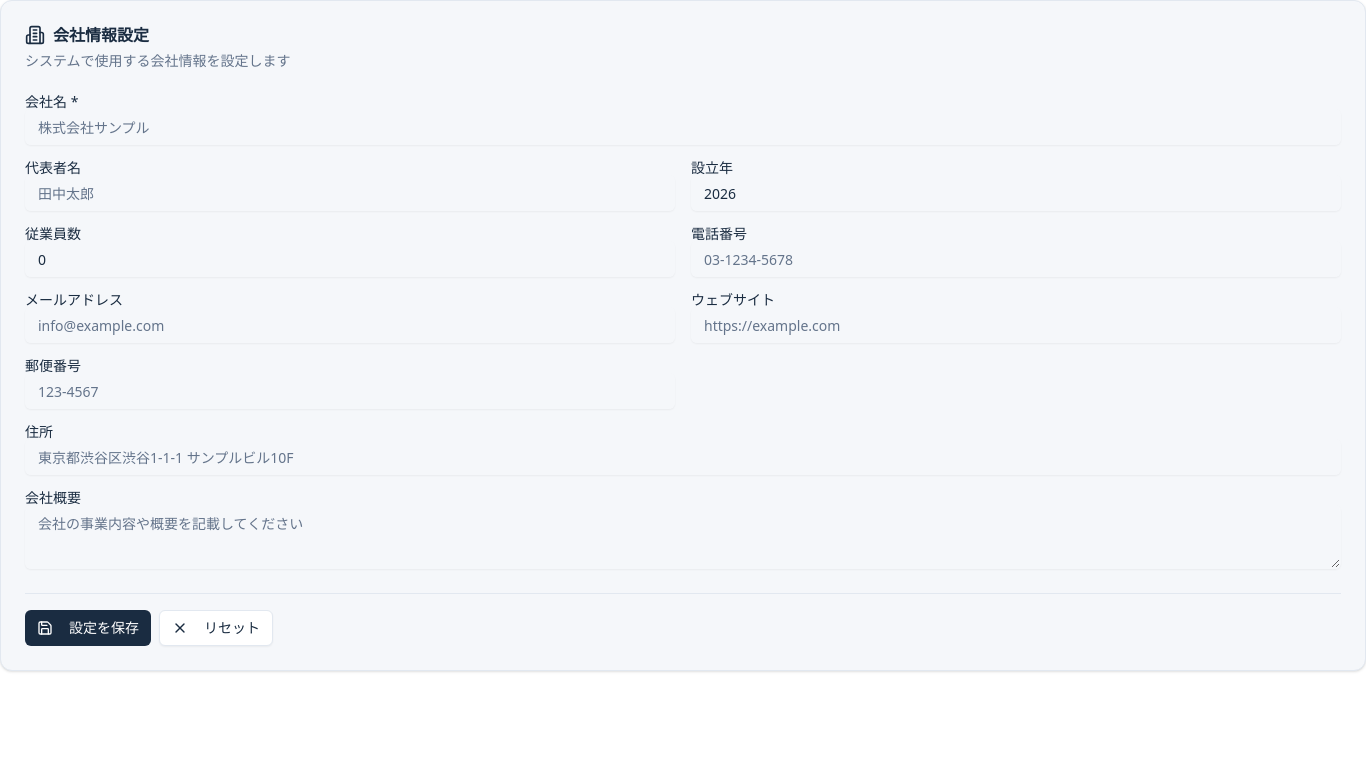
CompanySettings › validates required fields
Click the button "設定を保存" at (88, 628), box top-left (25, 610), bottom-right (151, 646)
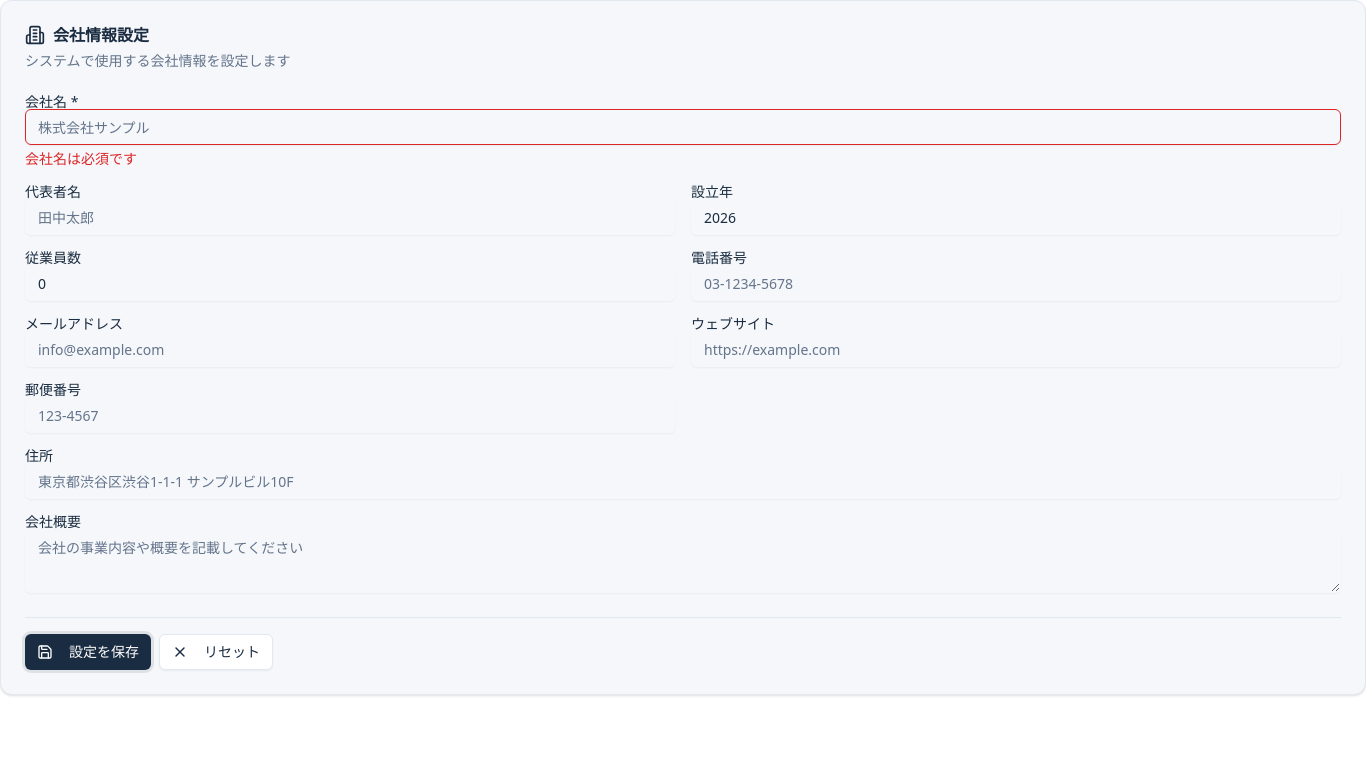
Result: the text "会社名は必須です" is shown at top-left (25, 149), bottom-right (137, 168)
